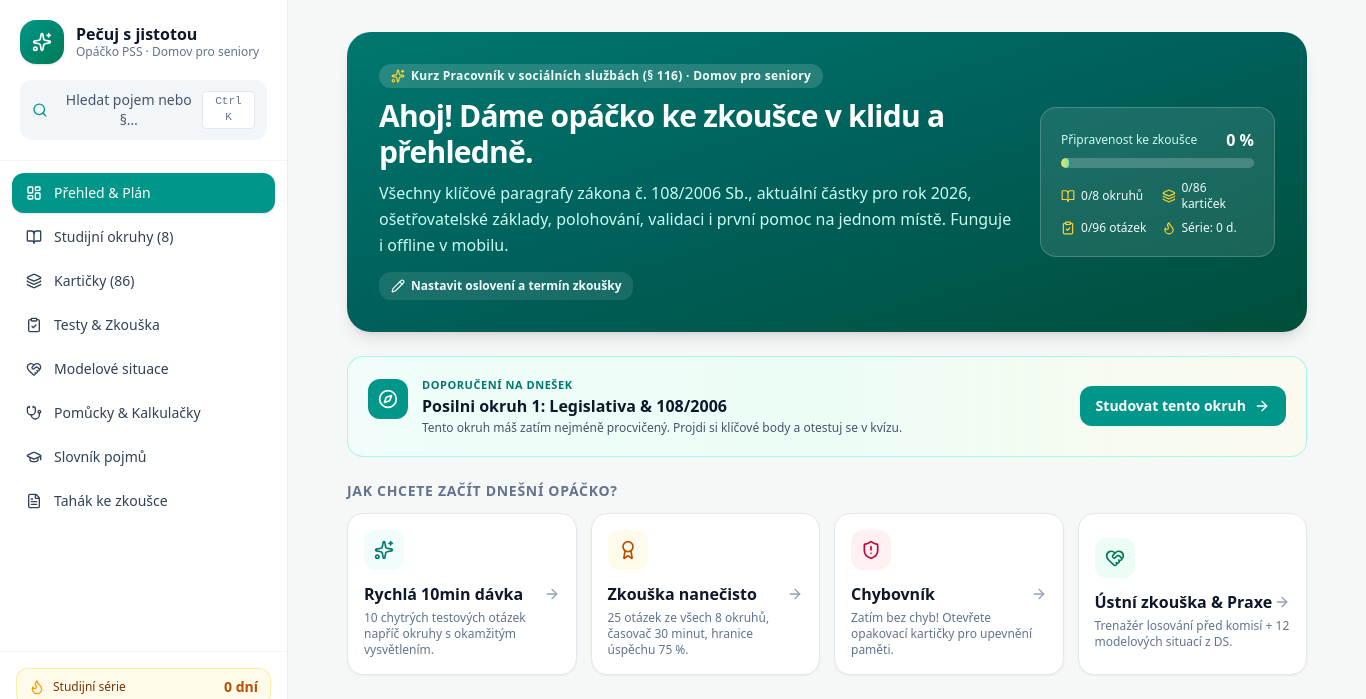
End-to-End UI Integration Flows (<App />) › flips Flashcards, updates mastery badge, and advances cleanly without skipping cards
Step 1. Click the button "Kartičky (86)" → x=94, y=280, box [12, 261, 275, 301]
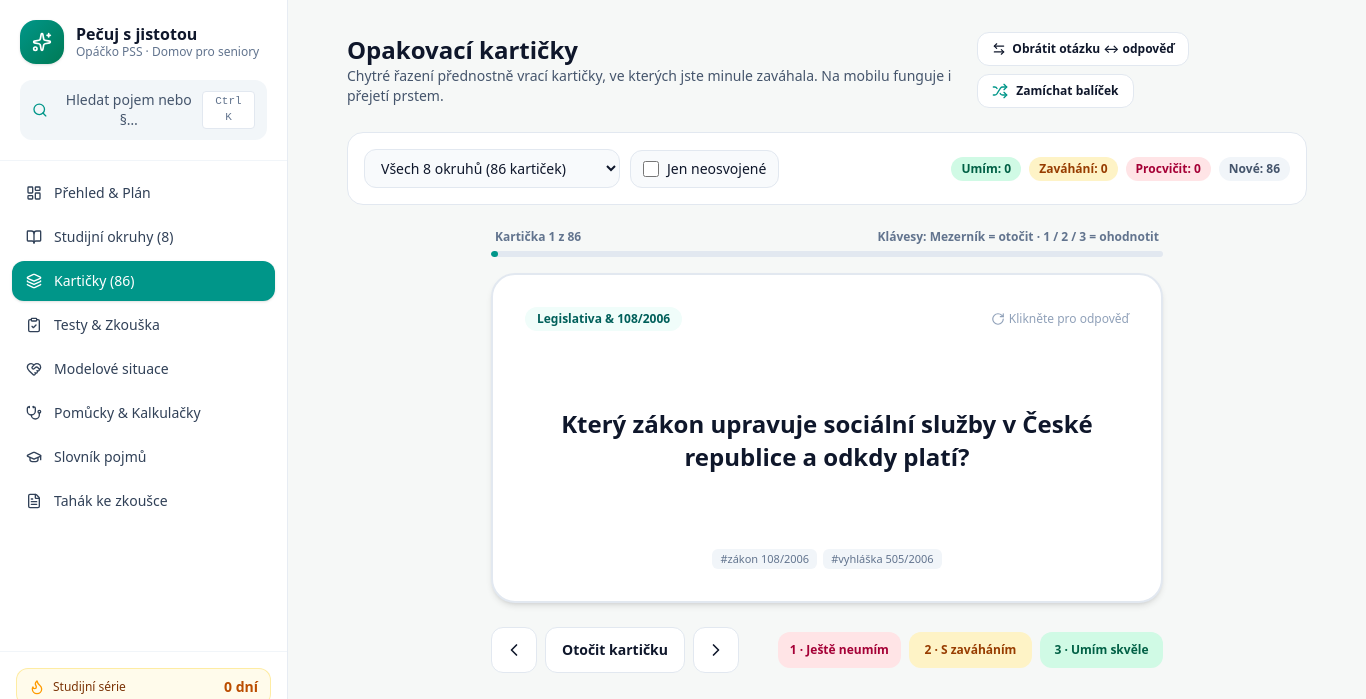
Now the heading "Který zákon upravuje sociální služby v České republice a odkdy platí?" is shown, box [525, 407, 1129, 473]
Flip card
Step 2. Click the button "Otočit kartičku" → x=615, y=650, box [545, 627, 685, 673]
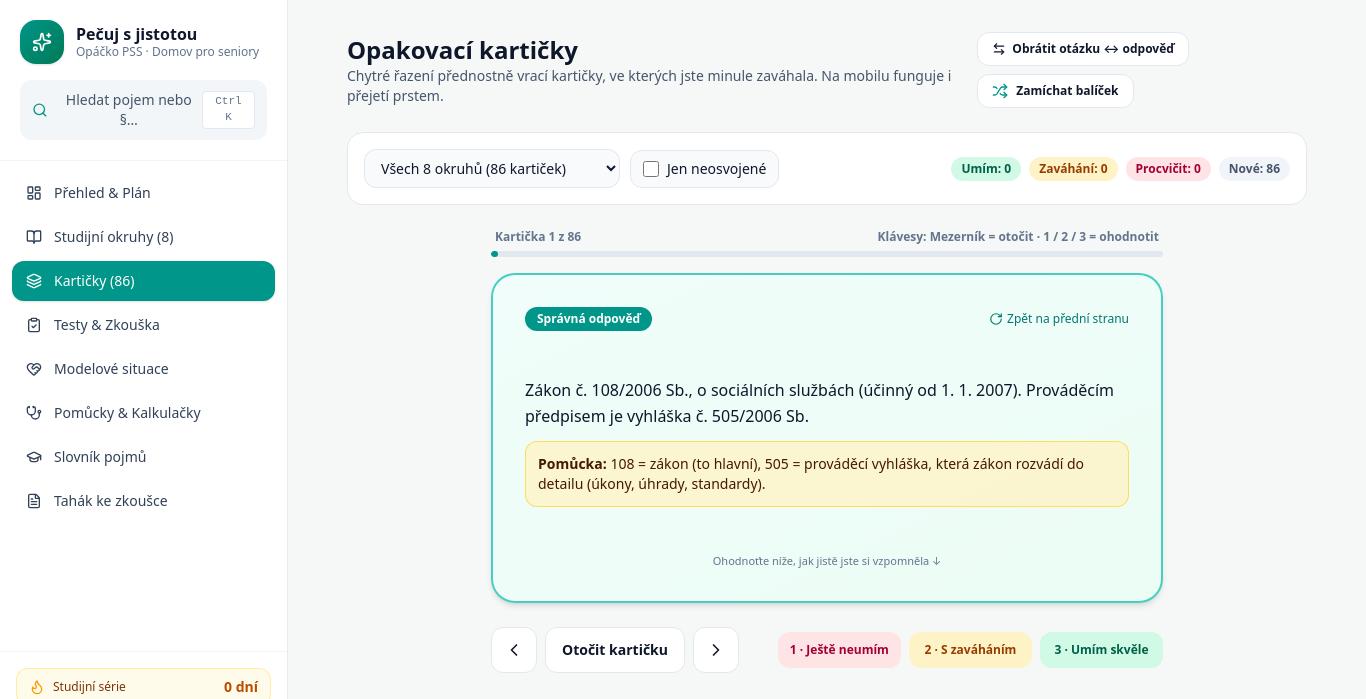
Step 3. Click the button "3 · Umím skvěle" → x=1101, y=650, box [1040, 632, 1163, 668]
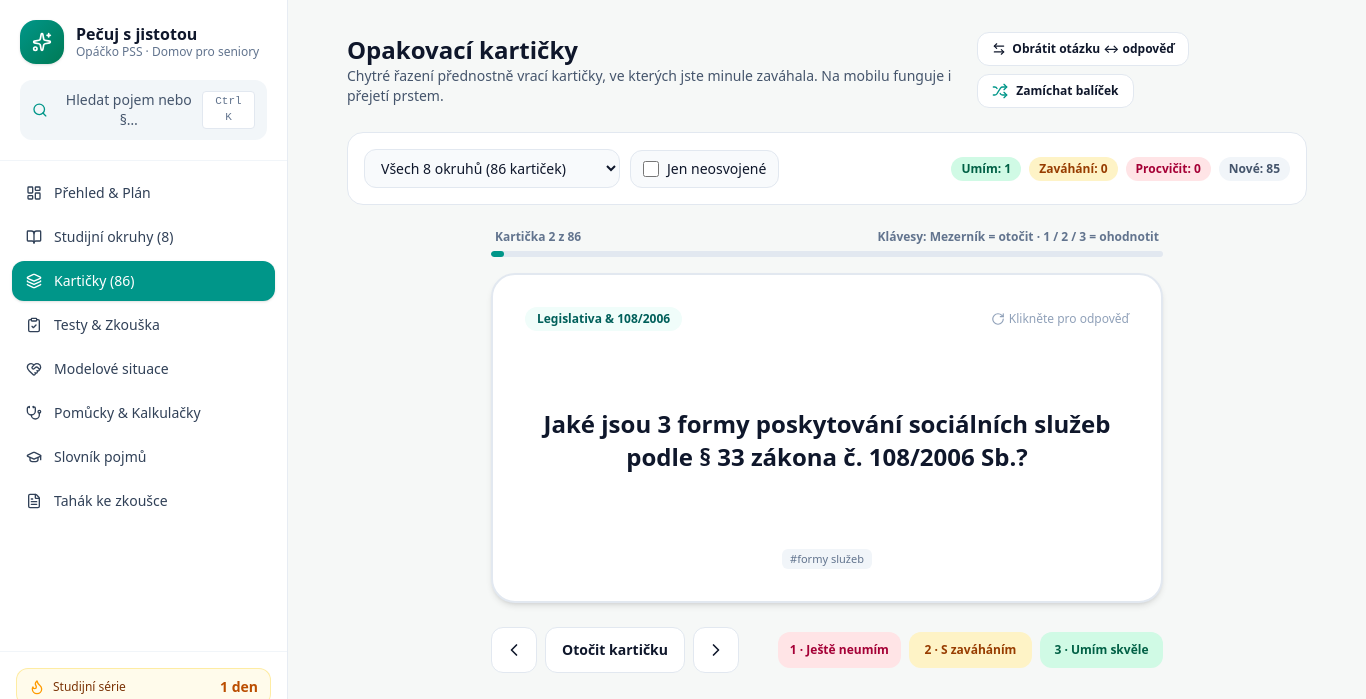
Now the text "Umím: 1" is shown, box [952, 156, 1021, 180]
Now the heading "Jaké jsou 3 formy poskytování sociálních služeb podle § 33 zákona č. 108/2006 Sb.?" is shown, box [544, 407, 1110, 473]
